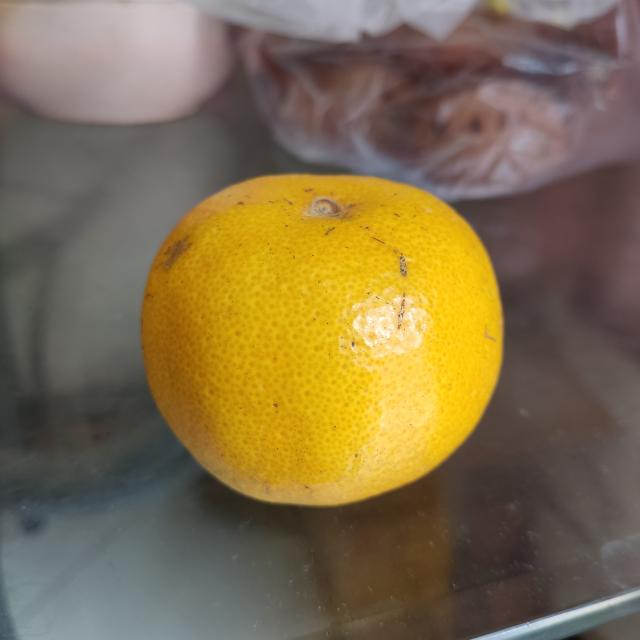orange: (138, 172, 509, 508)
